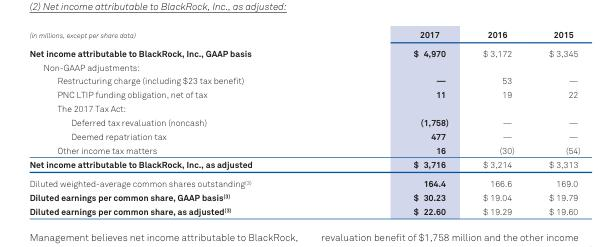table: (28, 28, 579, 216)
table column: (28, 28, 332, 216), (332, 28, 465, 216), (465, 28, 530, 216), (530, 28, 579, 216)
table column header: (28, 28, 579, 43)
table projected row header: (28, 59, 579, 73), (28, 101, 579, 115)
table row: (28, 43, 579, 59), (28, 157, 579, 173), (28, 173, 579, 189), (28, 28, 579, 43), (28, 142, 579, 157), (28, 59, 579, 73), (28, 73, 579, 87), (28, 87, 579, 101), (28, 101, 579, 115), (28, 115, 579, 129), (28, 189, 579, 203), (28, 129, 579, 142), (28, 203, 579, 216)
